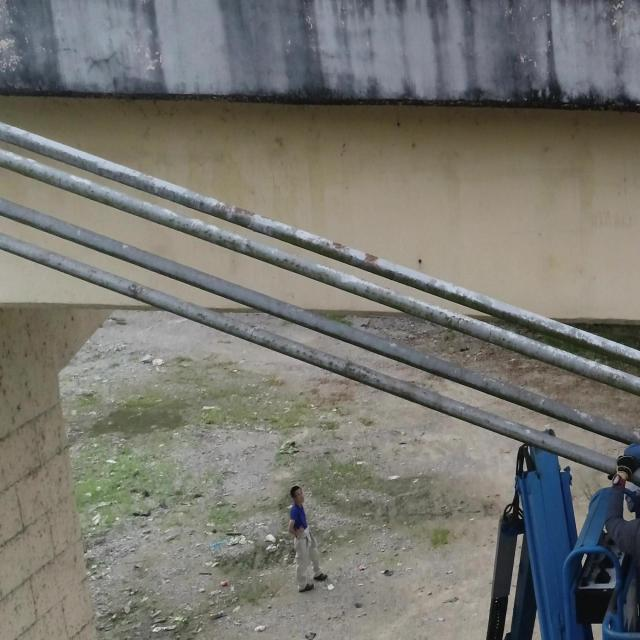corrosion: (232, 207, 252, 225), (214, 200, 228, 222), (331, 240, 344, 256), (365, 251, 377, 267)
